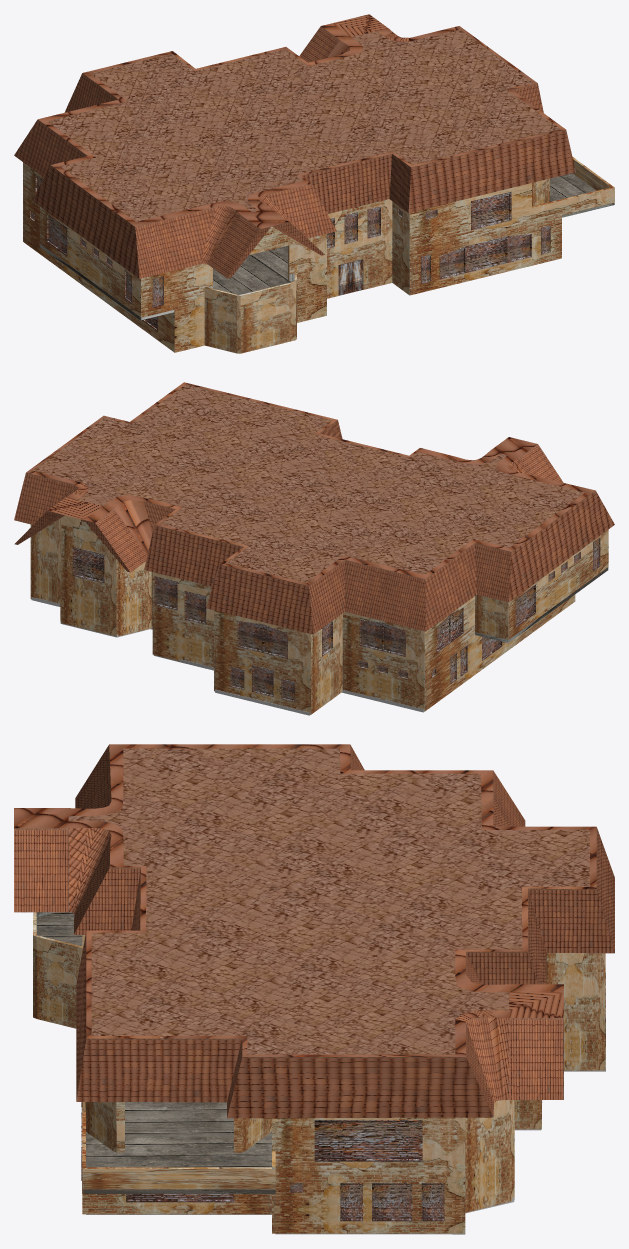
Rendered from CASA NASHE.fbx.
The picture shows the model from 3 angles, top to bottom: view 1: azimuth 30°, elevation 25°; view 2: azimuth 150°, elevation 25°; view 3: azimuth 270°, elevation 25°; orthographic projection. The views are drawn at different scales.
Parts seen in each view (by area): view 1: Object006, Paredes y marcos, techo - piso planta alta001, Frontal 3, Frontal 006, Frontal 007, Frontal 035, Frontal 008; view 2: Object006, Paredes y marcos, piso, Frontal 011, Frontal 019, Frontal 016, Frontal 020, Frontal 017, Frontal 024, Frontal 025, Frontal 035, Frontal 021 (+1 smaller); view 3: Object006, Paredes y marcos, techo - piso planta alta001, Frontal 015, Frontal 012, Frontal 013, Frontal 014, piso.
Boxes of the visible parts, box(x1,y1,x2,y2) form: Object006: box(14, 14, 575, 278); Paredes y marcos: box(23, 156, 614, 353); techo - piso planta alta001: box(39, 173, 614, 320); Frontal 3: box(471, 191, 511, 230); Frontal 006: box(465, 236, 507, 272); Frontal 007: box(439, 246, 465, 279); Frontal 035: box(46, 213, 67, 256); Frontal 008: box(507, 234, 531, 262); Object006: box(14, 382, 614, 634); Paredes y marcos: box(30, 515, 608, 714); piso: box(31, 597, 423, 715); Frontal 011: box(72, 547, 104, 583); Frontal 019: box(237, 621, 262, 652); Frontal 016: box(154, 576, 177, 610); Frontal 020: box(263, 624, 287, 658); Frontal 017: box(184, 591, 206, 624); Frontal 024: box(382, 623, 405, 656); Frontal 025: box(359, 620, 382, 651); Frontal 035: box(515, 584, 535, 627); Frontal 021: box(252, 665, 273, 696); Object006: box(14, 744, 614, 1118); Paredes y marcos: box(33, 912, 605, 1233); techo - piso planta alta001: box(36, 912, 275, 1193); Frontal 015: box(314, 1120, 422, 1161); Frontal 012: box(372, 1183, 412, 1221); Frontal 013: box(421, 1183, 444, 1221); Frontal 014: box(340, 1183, 362, 1221); piso: box(86, 1047, 605, 1234).
Size of the model in its own units: 43208 by 11005 by 33028.
